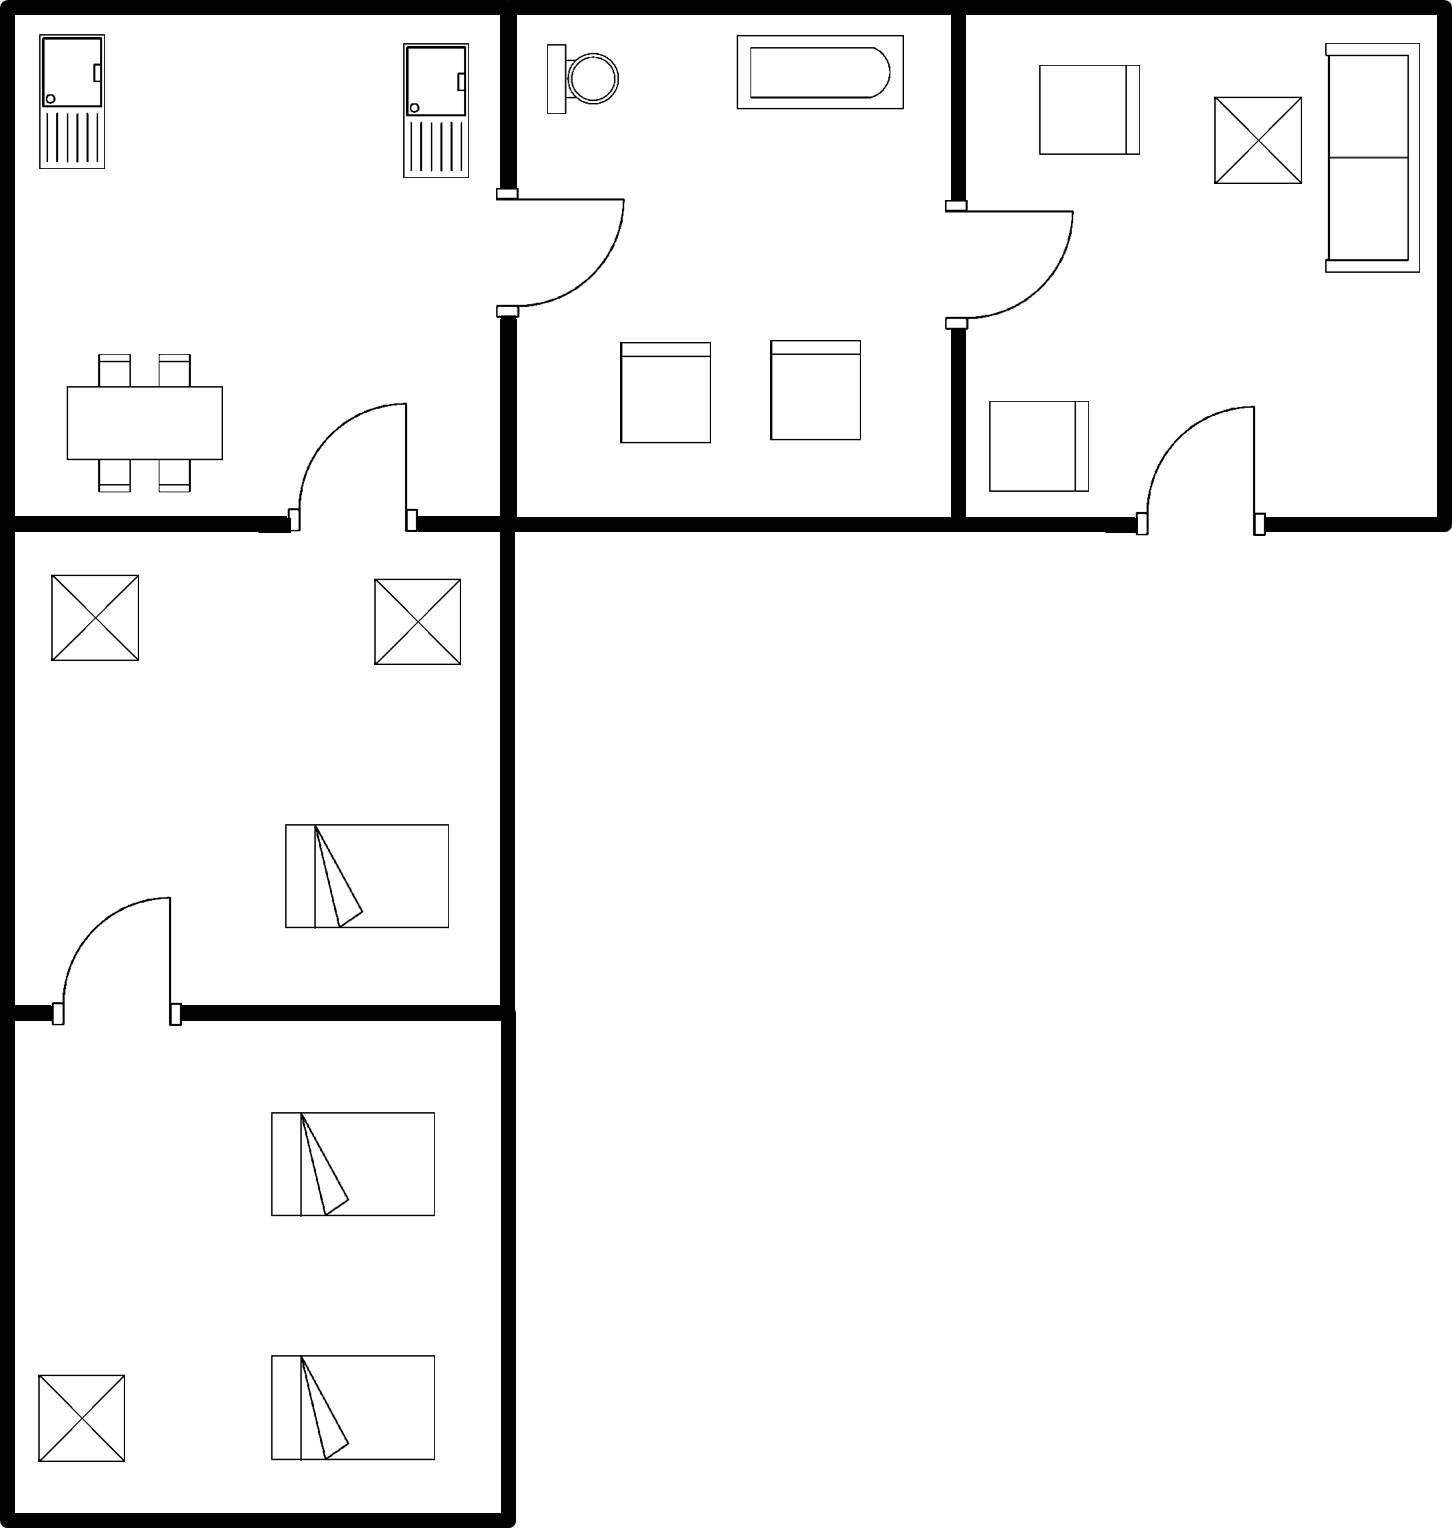bed: (272, 810, 461, 941), (261, 1340, 449, 1471), (255, 1098, 446, 1226)
dining_table: (55, 341, 231, 502)
sink: (25, 25, 117, 190), (392, 35, 480, 192)
sofa: (1313, 29, 1438, 285)
toilet: (539, 31, 625, 128)
tub: (722, 22, 912, 126)
